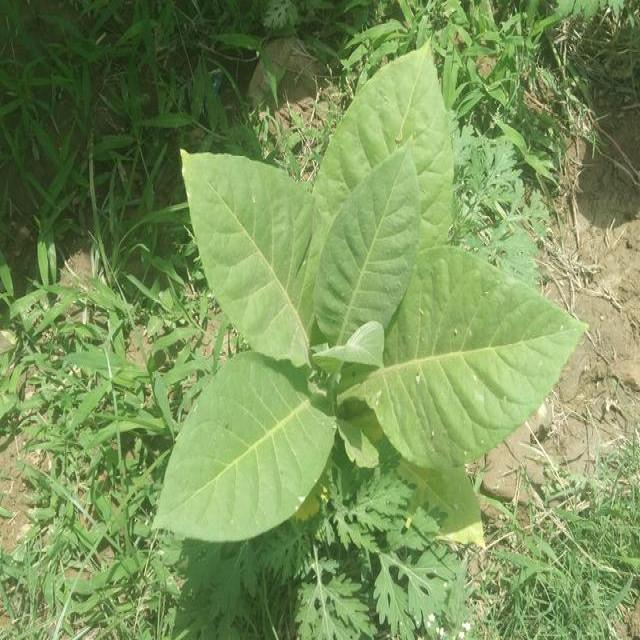crop: (161, 45, 588, 600)
